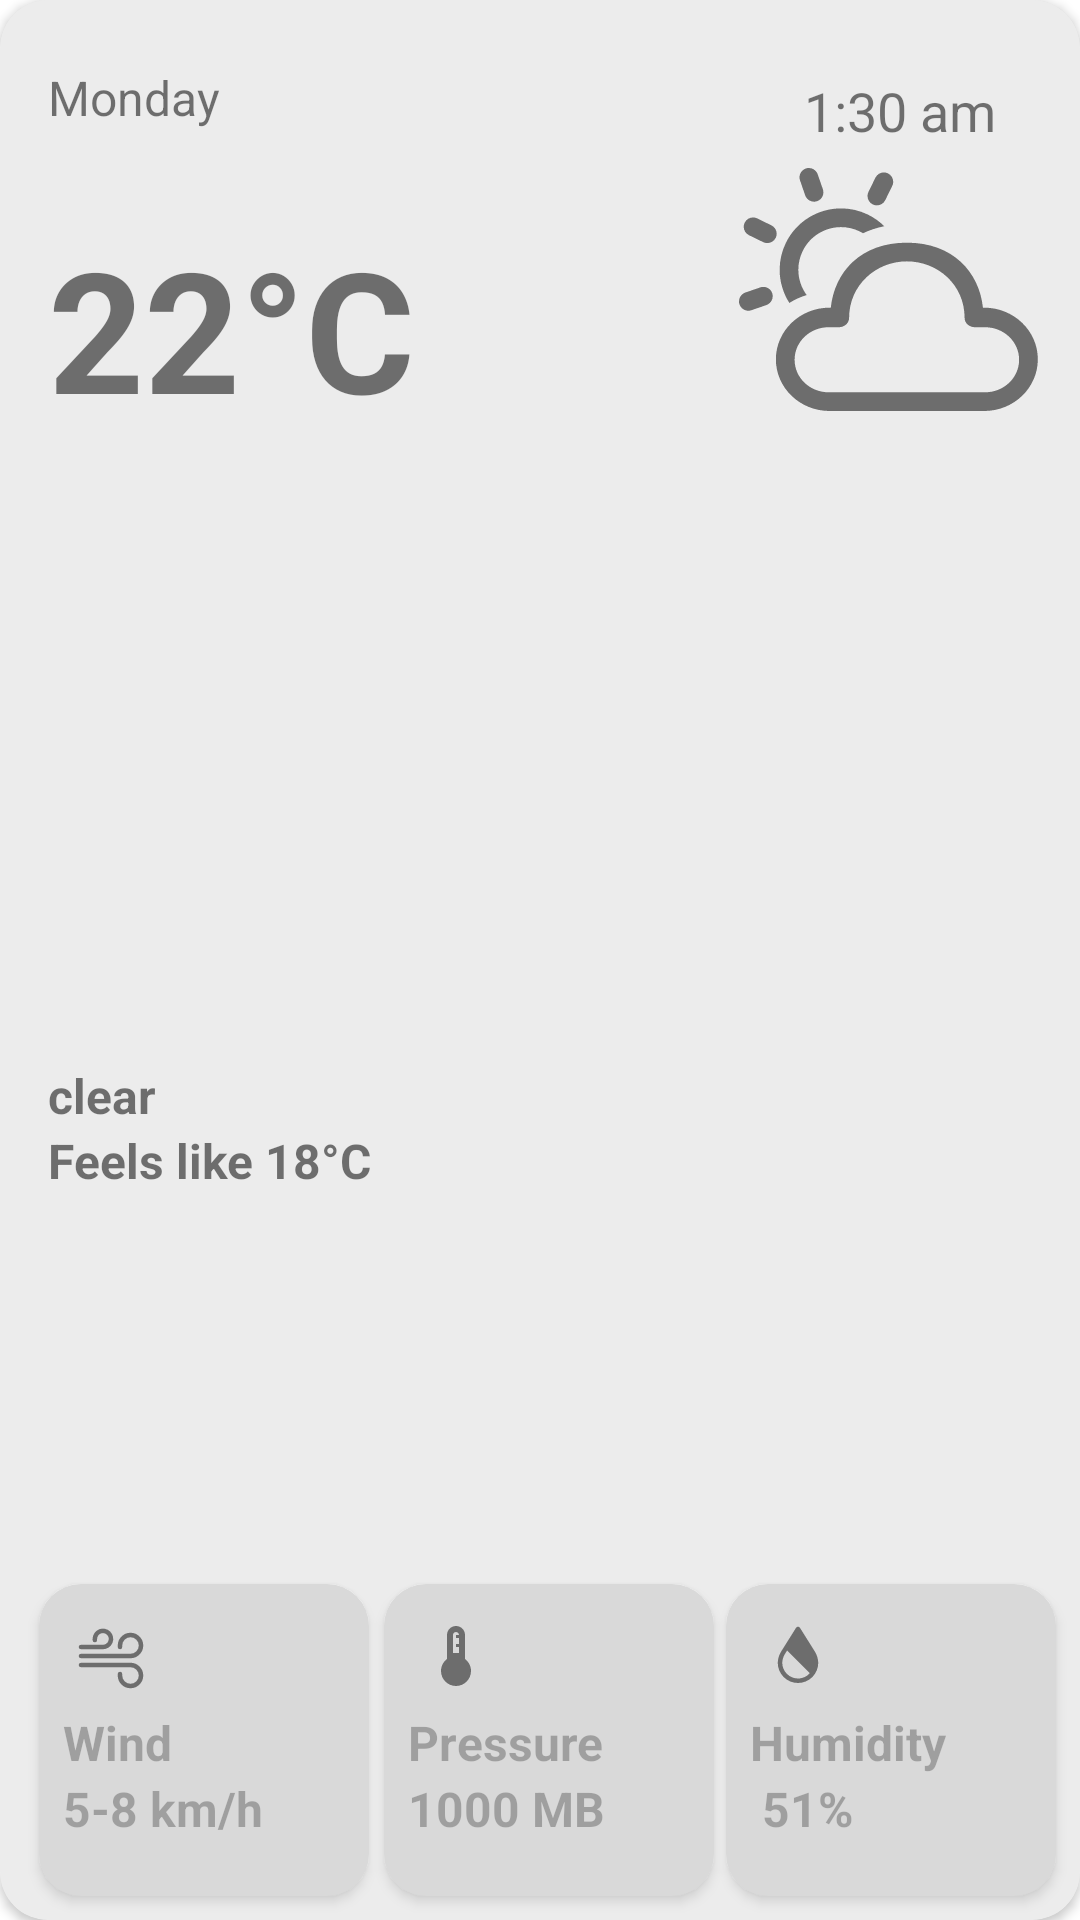

Point at icon controls on the screen. Image size 1080*1920, points as (x=x, y=y).
thermostat: (x=456, y=1656)
weather partly cloudy day: (x=888, y=289)
